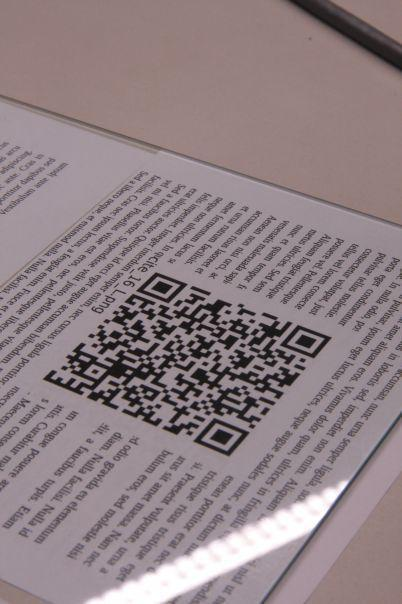qr_code: (42, 272, 333, 456)
